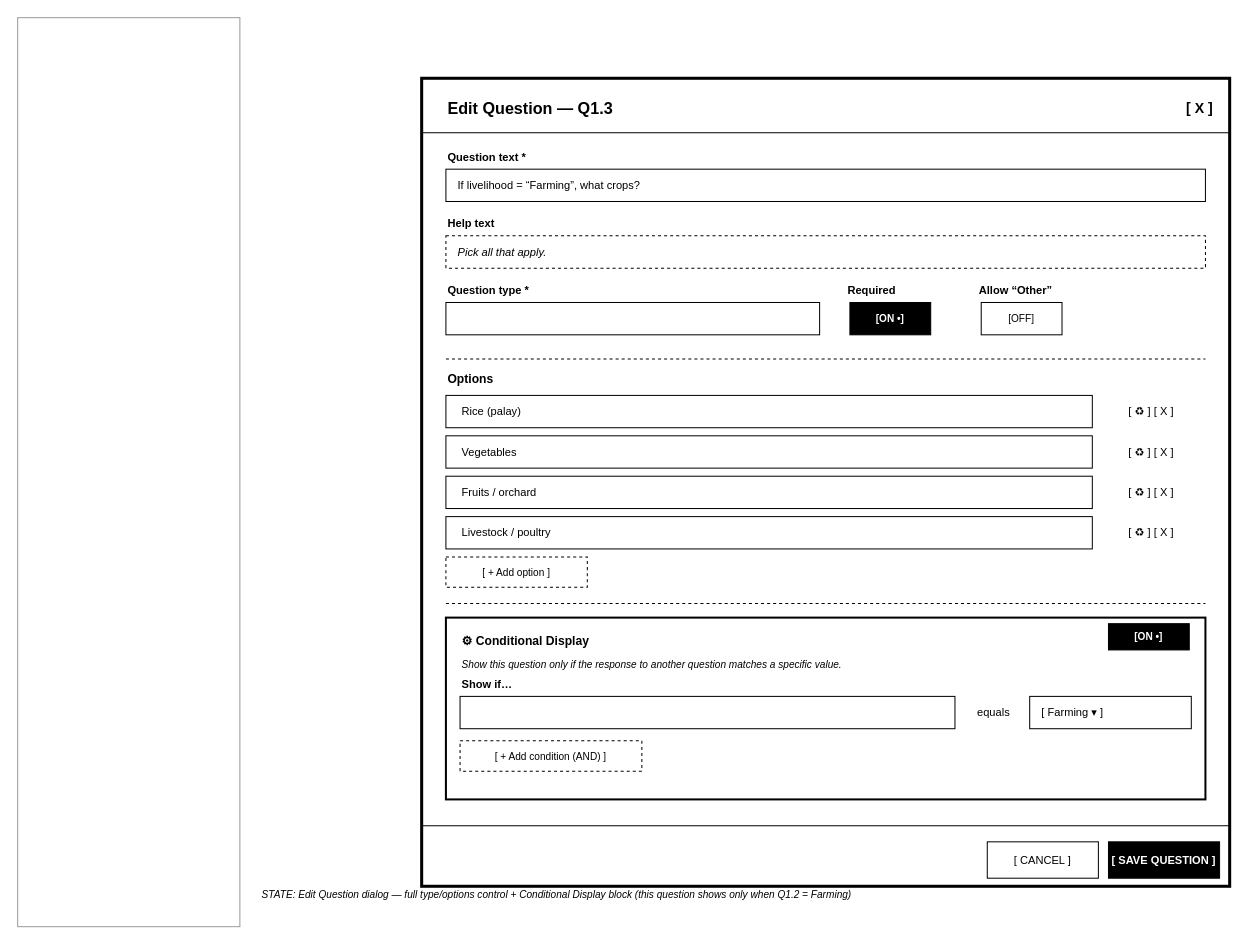
Image size: 1248x944. Some labels were removed from this diagram. Each missing label, with the box of its shape:
[ Checkbox (many) ▾ ]: (445, 301, 820, 335)
[ Q1.2 What is the head of household's primary livelihood? ▾ ]: (459, 695, 955, 729)
AGAPE: (17, 17, 240, 927)
